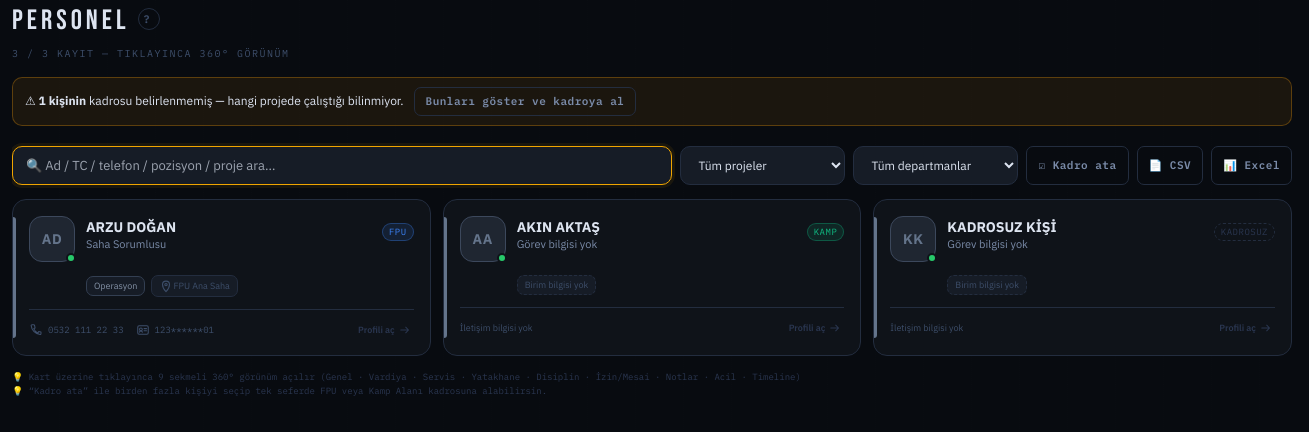
Test: Personel listesi — kadro › kadrosu belirsiz uyarısı sayıyı verir ve doğrudan atamaya götürür
Check: the text "1 kişinin" is shown, box [39,93,86,108]
What coordinates should you click on to do the following:
click the button "Bunları göster ve kadroya al"
I would click on:
 (525, 101)
Its box is [414,87,636,116].
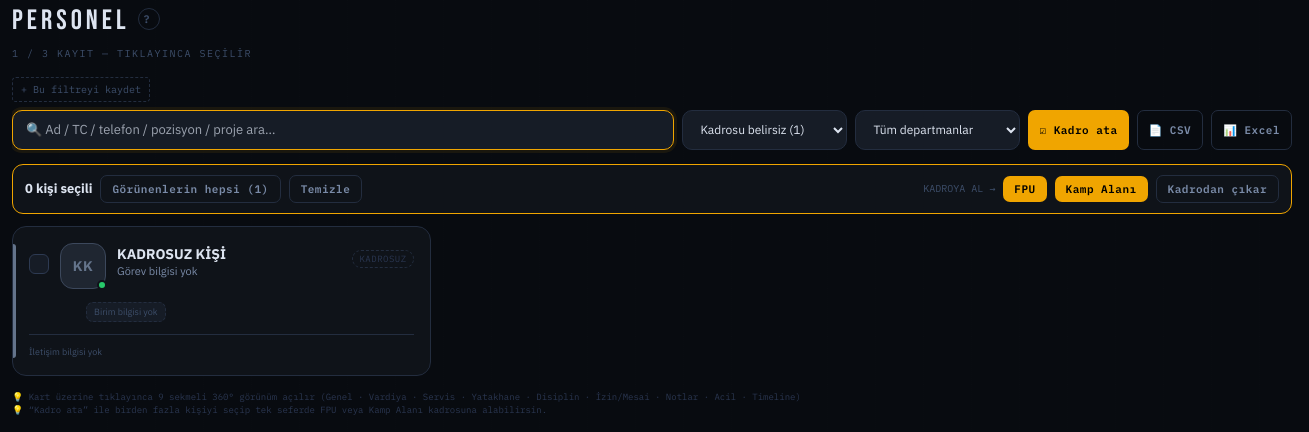
Check: the heading "KADROSUZ KİŞİ" is shown, box [117,245,226,264]
Check: the heading "ARZU DOĞAN" is gone
